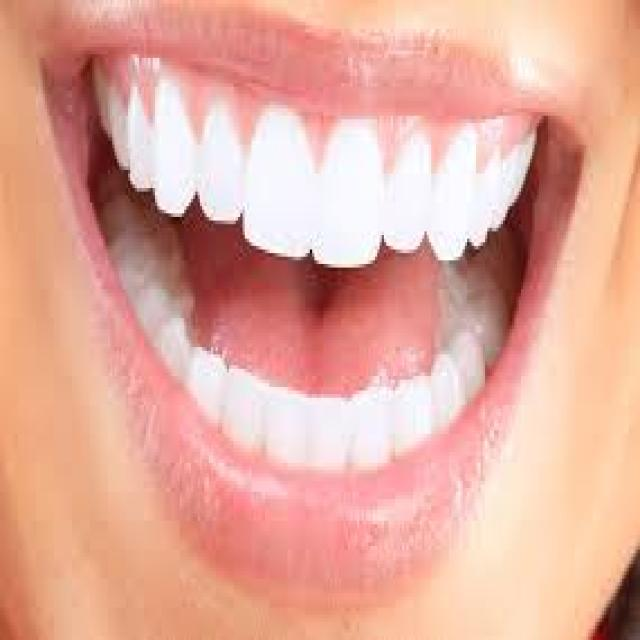tooth: (242, 94, 316, 268), (314, 109, 384, 268), (193, 83, 247, 228), (148, 73, 198, 214), (433, 109, 474, 271), (386, 123, 429, 268), (467, 130, 499, 268), (350, 376, 396, 470), (393, 368, 442, 456), (263, 376, 312, 463), (310, 376, 350, 470), (225, 358, 265, 448), (188, 333, 226, 423)
